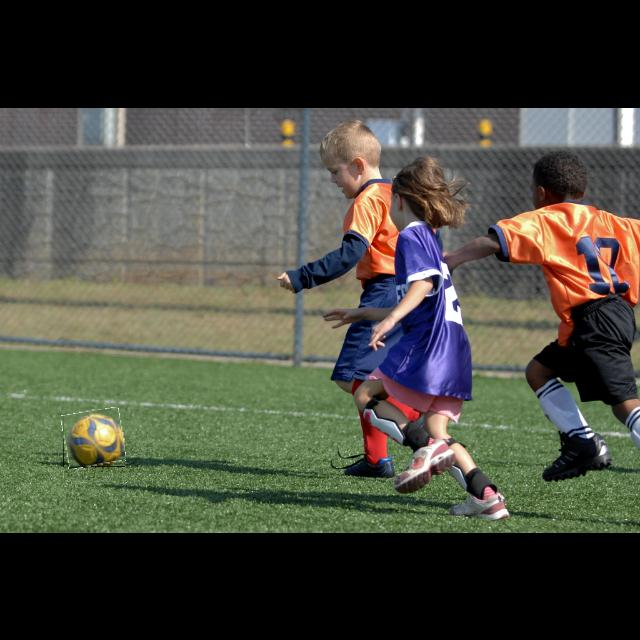Football: (63, 409, 125, 467)
